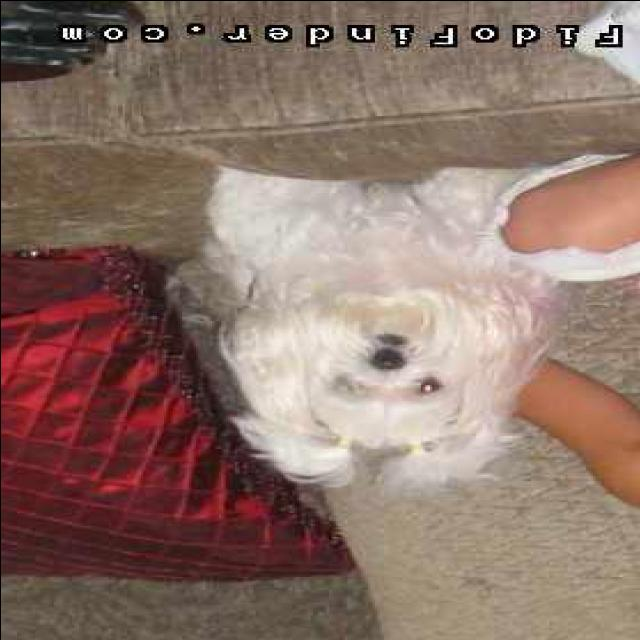maltese_dog: (207, 168, 558, 485)
